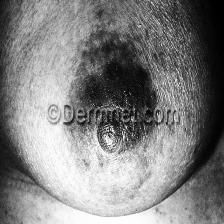Non-Cancerous Skin Condition: (72, 27, 143, 108)
